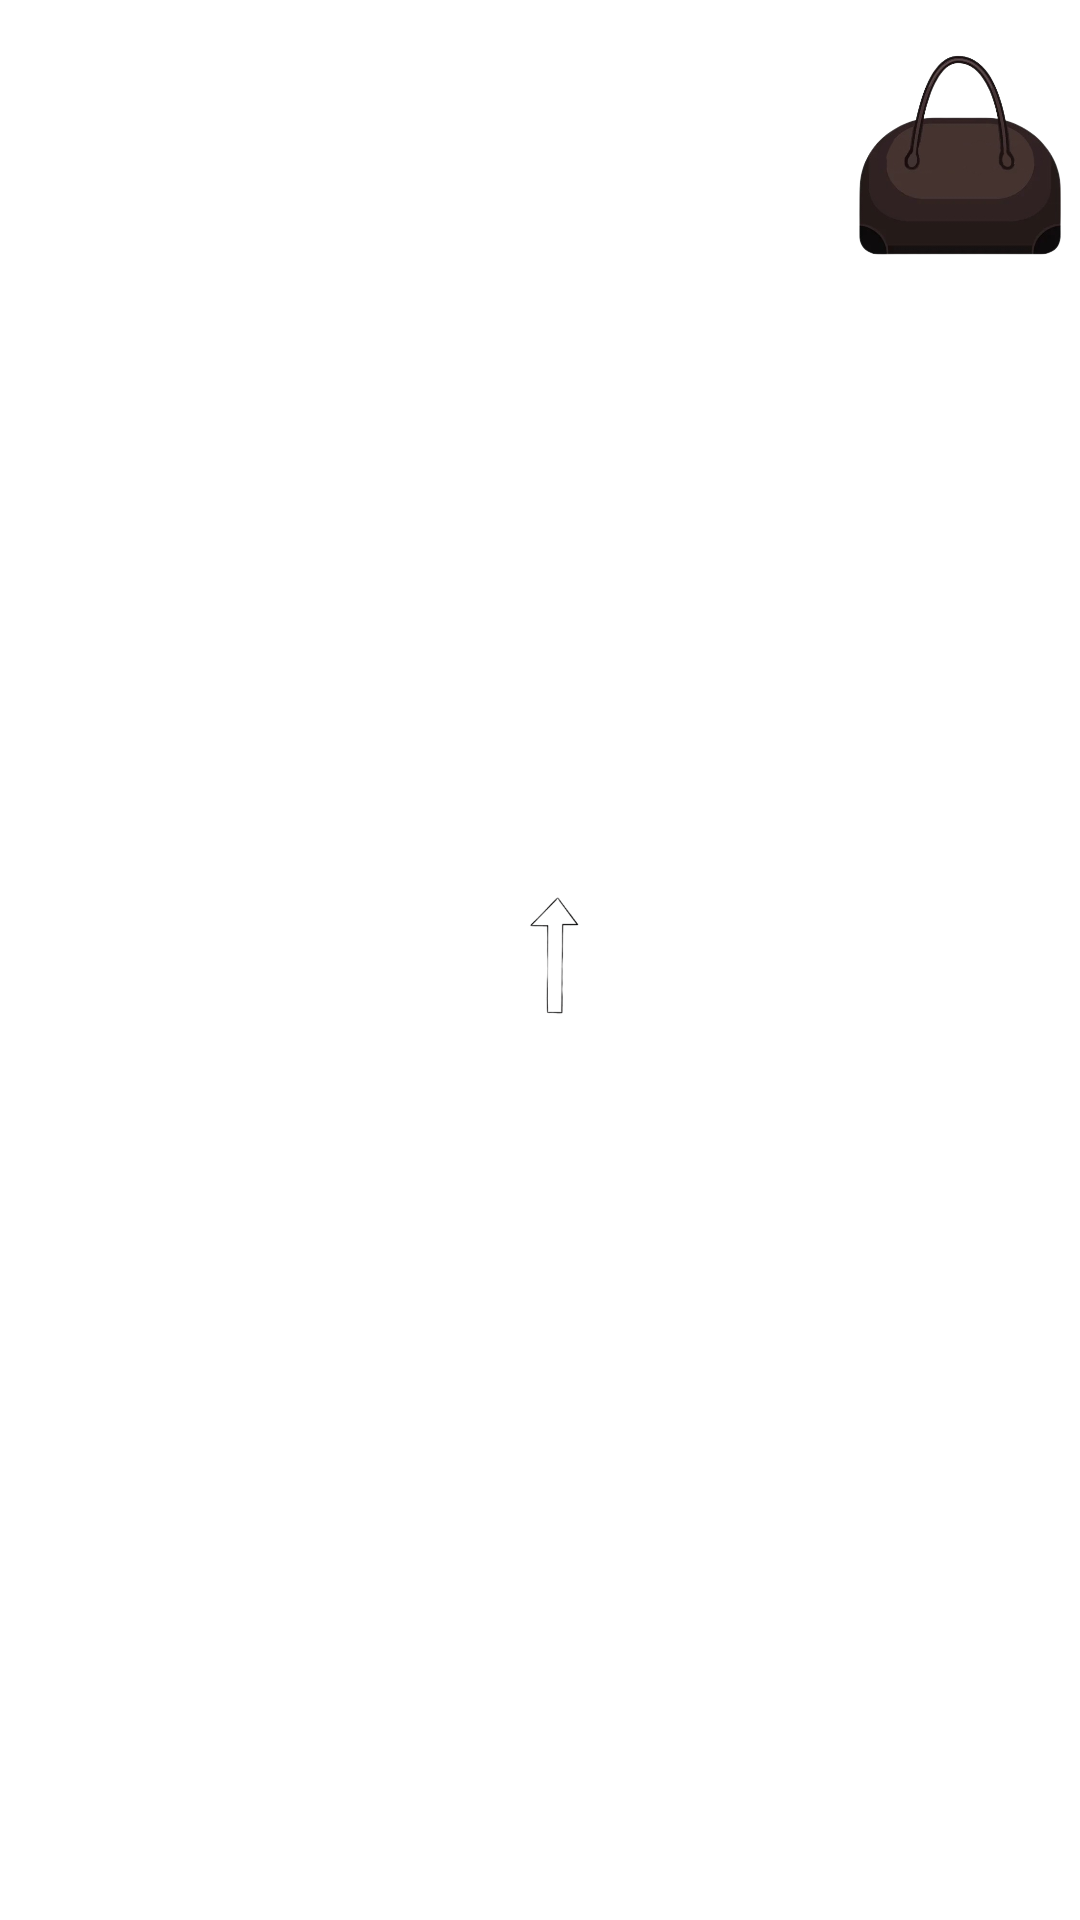

Locate icon controls on the screen. Image size 1080*1920, boxes as (x1, y1, x2, y2).
bag: (859, 56, 1061, 255)
